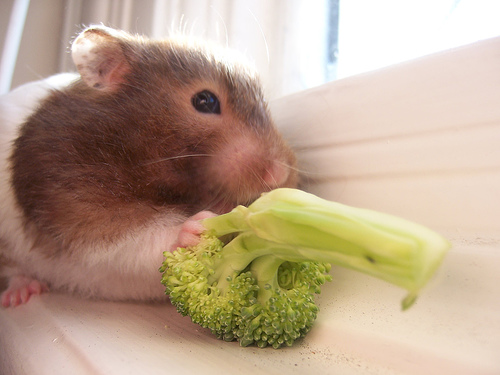broccoli: (157, 188, 449, 351)
